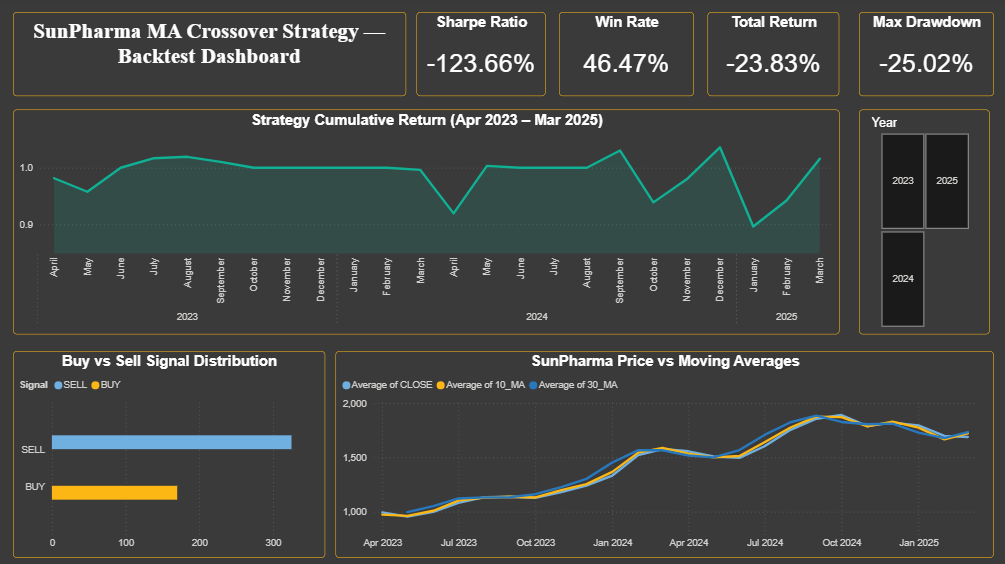

The page's visual inventory and layout, read from the dashboard file:
{"tool":"powerbi","page":{"name":"Page 1","canvas":[1280,720],"ordinal":0},"visuals":[{"type":"lineChart","title":"Strategy Cumulative Return (Apr 2023 – Mar 2025)","fields":{"Category":["Sheet1.DATE.Variation.Date Hierarchy.Year","Sheet1.DATE.Variation.Date Hierarchy.Month","Sheet1.DATE.Variation.Date Hierarchy.Day"],"Y":["Sheet1.Cumulative_Return"]},"box":[22.7,141.7,1041.3,283.5],"z":0},{"type":"lineChart","title":"SunPharma Price vs Moving Averages","fields":{"Category":["Sheet1.DATE.Variation.Date Hierarchy.Year","Sheet1.DATE.Variation.Date Hierarchy.Month"],"Y":["Avg(Sheet1.CLOSE)","Avg(Sheet1.10_MA)","Avg(Sheet1.30_MA)"]},"box":[429,446,829.6,260.8],"z":1000},{"type":"clusteredBarChart","title":"Buy vs Sell Signal Distribution","fields":{"Category":["Sheet1.Signal"],"Y":["CountNonNull(Sheet1.DATE)"],"Series":["Sheet1.Signal"]},"box":[22.7,446,393.1,260.8],"z":2000},{"type":"slicer","fields":{"Values":["Sheet1.DATE.Variation.Date Hierarchy.Year"]},"box":[1088.5,141.7,164.4,283.5],"z":3000},{"type":"card","title":"Sharpe Ratio","fields":{"Values":["Sheet1.Sharpe Ratio"]},"box":[531,18.9,162.5,105.8],"z":4000},{"type":"card","title":"Win Rate","fields":{"Values":["Sheet1.Win Ratego"]},"box":[710.6,18.9,170.1,105.8],"z":5000},{"type":"card","title":"Total Return","fields":{"Values":["Sheet1.Total Return"]},"box":[897.6,18.9,166.3,105.8],"z":6000},{"type":"card","title":"Max Drawdown","fields":{"Values":["Sheet1.Max Drawdown"]},"box":[1088.5,18.9,170.1,105.8],"z":6001},{"type":"textbox","box":[22.7,18.9,495.1,105.8],"z":6002}]}

Visuals, with their boxes in screenshot pixels (x1, y1, x2, y2), scaled from the page's 1280x720 canvas onto the 1005x564 screenshot:
"Strategy Cumulative Return (Apr 2023 – Mar 2025)" lineChart: BBox(18, 111, 835, 333)
"SunPharma Price vs Moving Averages" lineChart: BBox(337, 349, 988, 554)
"Buy vs Sell Signal Distribution" clusteredBarChart: BBox(18, 349, 326, 554)
slicer - Sheet1.DATE.Variation.Date Hierarchy.Year: BBox(855, 111, 984, 333)
"Sharpe Ratio" card: BBox(417, 15, 545, 98)
"Win Rate" card: BBox(558, 15, 691, 98)
"Total Return" card: BBox(705, 15, 835, 98)
"Max Drawdown" card: BBox(855, 15, 988, 98)
textbox: BBox(18, 15, 407, 98)
